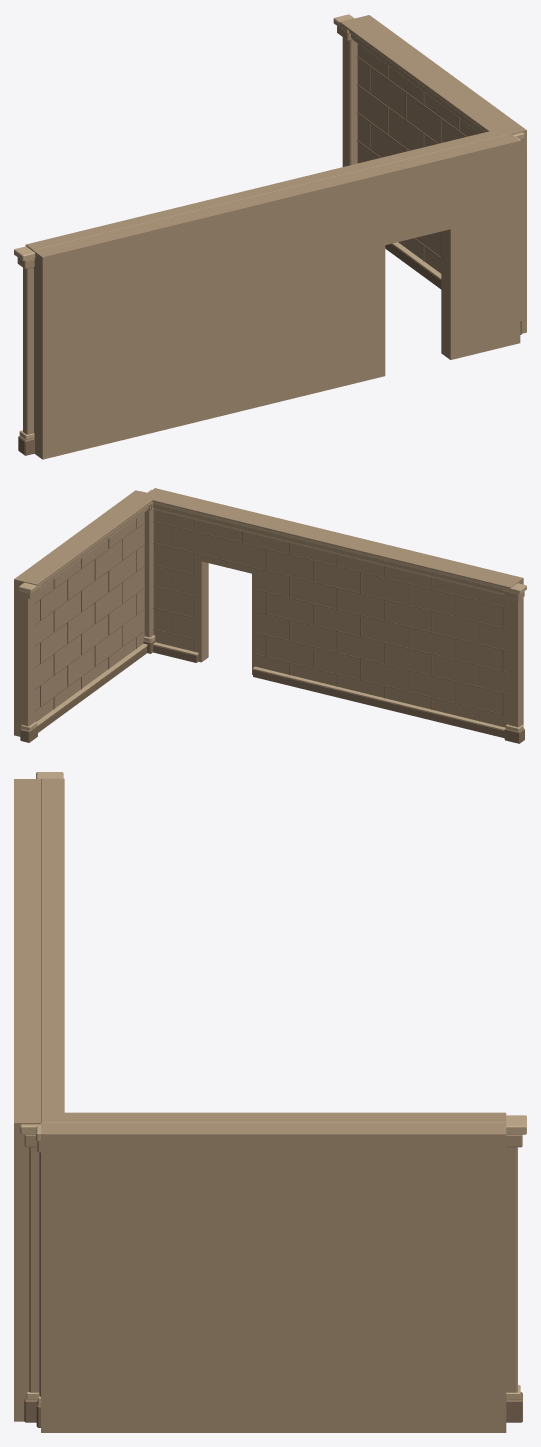
Rendered from b2_valve_gallery_complete_shell.glb.
3 renders of one model, top to bottom at view 1: azimuth 30°, elevation 25°; view 2: azimuth 150°, elevation 25°; view 3: azimuth 270°, elevation 25°, orthographic. The views are drawn at different scales.
Visible parts, largest first — view 1: b2_valve_gallery_front_Wall_Solid_00, b2_valve_gallery_right_Wall_Solid_00, b2_valve_gallery_front_Wall_Cornice_00_3_0, b2_valve_gallery_right_Wall_Cornice_00_3_0, Pilaster_Shaft_004, Pilaster_Shaft_009, b2_valve_gallery_right_Masonry_Real_joint_mesh, b2_valve_gallery_right_Wall_Cornice_00_1_0, b2_valve_gallery_right_Wall_Skirting_00_0; view 2: b2_valve_gallery_front_Wall_Solid_00, b2_valve_gallery_right_Wall_Solid_00, b2_valve_gallery_front_Masonry_Real_joint_mesh, b2_valve_gallery_front_Wall_Cornice_00_3_0, b2_valve_gallery_front_Wall_Skirting_00_1, b2_valve_gallery_right_Masonry_Real_joint_mesh, Pilaster_Shaft_009, Pilaster_Shaft_004, b2_valve_gallery_front_Wall_Cornice_00_1_0, b2_valve_gallery_right_Wall_Cornice_00_3_0, b2_valve_gallery_front_Wall_SkirtingBead_00_1, b2_valve_gallery_front_Wall_Cornice_00_2_0 (+7 smaller); view 3: b2_valve_gallery_right_Wall_Solid_00, b2_valve_gallery_front_Wall_Solid_00, b2_valve_gallery_front_Wall_Cornice_00_3_0, b2_valve_gallery_right_Wall_Cornice_00_3_0, Pilaster_Shaft_004, Pilaster_Shaft_005.
Boxes of the visible parts, left/top/right/bottom form: b2_valve_gallery_front_Wall_Solid_00: left=33, top=134, right=520, bottom=459; b2_valve_gallery_right_Wall_Solid_00: left=354, top=15, right=526, bottom=333; b2_valve_gallery_front_Wall_Cornice_00_3_0: left=25, top=128, right=510, bottom=250; b2_valve_gallery_right_Wall_Cornice_00_3_0: left=340, top=18, right=510, bottom=135; Pilaster_Shaft_004: left=342, top=37, right=357, bottom=166; Pilaster_Shaft_009: left=23, top=267, right=33, bottom=434; b2_valve_gallery_right_Masonry_Real_joint_mesh: left=356, top=56, right=466, bottom=261; b2_valve_gallery_right_Wall_Cornice_00_1_0: left=351, top=34, right=484, bottom=133; b2_valve_gallery_right_Wall_Skirting_00_0: left=385, top=244, right=441, bottom=289; b2_valve_gallery_front_Wall_Solid_00: left=148, top=488, right=523, bottom=727; b2_valve_gallery_right_Wall_Solid_00: left=14, top=490, right=147, bottom=736; b2_valve_gallery_front_Masonry_Real_joint_mesh: left=153, top=520, right=508, bottom=721; b2_valve_gallery_front_Wall_Cornice_00_3_0: left=142, top=493, right=516, bottom=588; b2_valve_gallery_front_Wall_Skirting_00_1: left=253, top=670, right=504, bottom=738; b2_valve_gallery_right_Masonry_Real_joint_mesh: left=34, top=518, right=145, bottom=711; Pilaster_Shaft_009: left=508, top=598, right=521, bottom=727; Pilaster_Shaft_004: left=22, top=596, right=34, bottom=726; b2_valve_gallery_front_Wall_Cornice_00_1_0: left=153, top=504, right=504, bottom=593; b2_valve_gallery_right_Wall_Cornice_00_3_0: left=26, top=494, right=157, bottom=585; b2_valve_gallery_front_Wall_SkirtingBead_00_1: left=252, top=666, right=505, bottom=730; b2_valve_gallery_front_Wall_Cornice_00_2_0: left=153, top=502, right=501, bottom=588; b2_valve_gallery_right_Wall_Solid_00: left=41, top=1123, right=506, bottom=1432; b2_valve_gallery_front_Wall_Solid_00: left=14, top=779, right=40, bottom=1421; b2_valve_gallery_front_Wall_Cornice_00_3_0: left=41, top=778, right=64, bottom=1122; b2_valve_gallery_right_Wall_Cornice_00_3_0: left=41, top=1112, right=506, bottom=1122; Pilaster_Shaft_004: left=506, top=1147, right=517, bottom=1392; Pilaster_Shaft_005: left=29, top=1147, right=39, bottom=1392.
Bounding box in the file's own units: 8.9 × 3.41 × 5.3.
